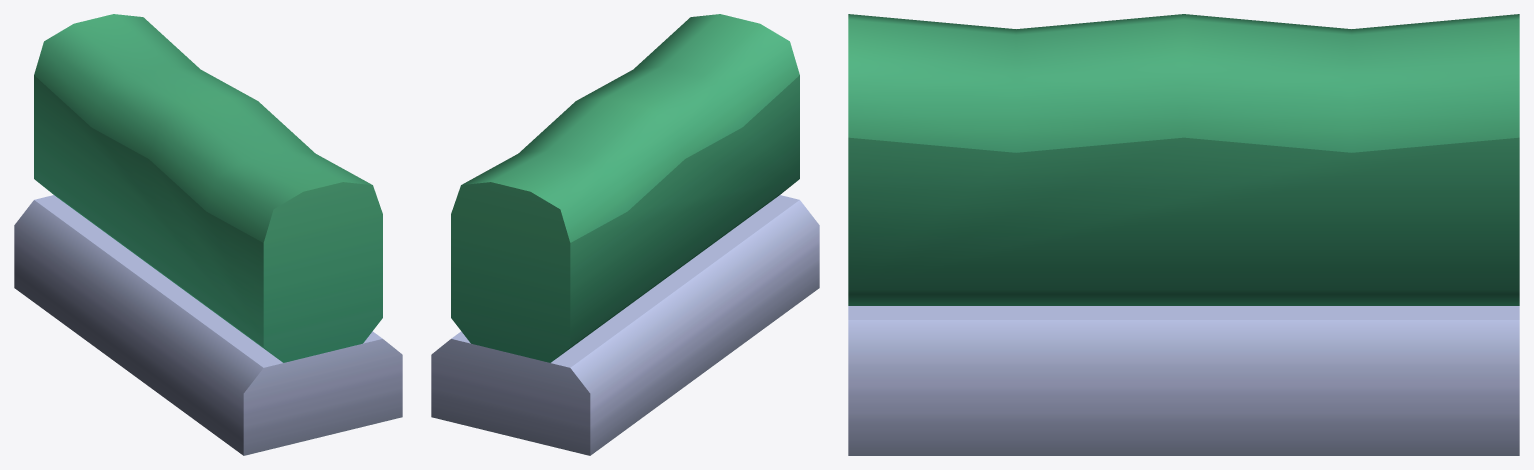
The model's file is k-fantasy-town-hedge-large.glb.
3 views of the same model, side by side, from view 1: azimuth 30°, elevation 25°; view 2: azimuth 150°, elevation 25°; view 3: azimuth 270°, elevation 25° (orthographic). The views are drawn at different scales.
Visible parts, largest first — view 1: hedge-large; view 2: hedge-large; view 3: hedge-large.
Boxes of the visible parts, x1,y1,x2,y2 form: hedge-large: (14, 14, 402, 455); hedge-large: (431, 14, 819, 455); hedge-large: (848, 14, 1519, 455).
Size of the model in its own units: 0.3999 by 0.6001 by 1.
1 material, 1 textured.
